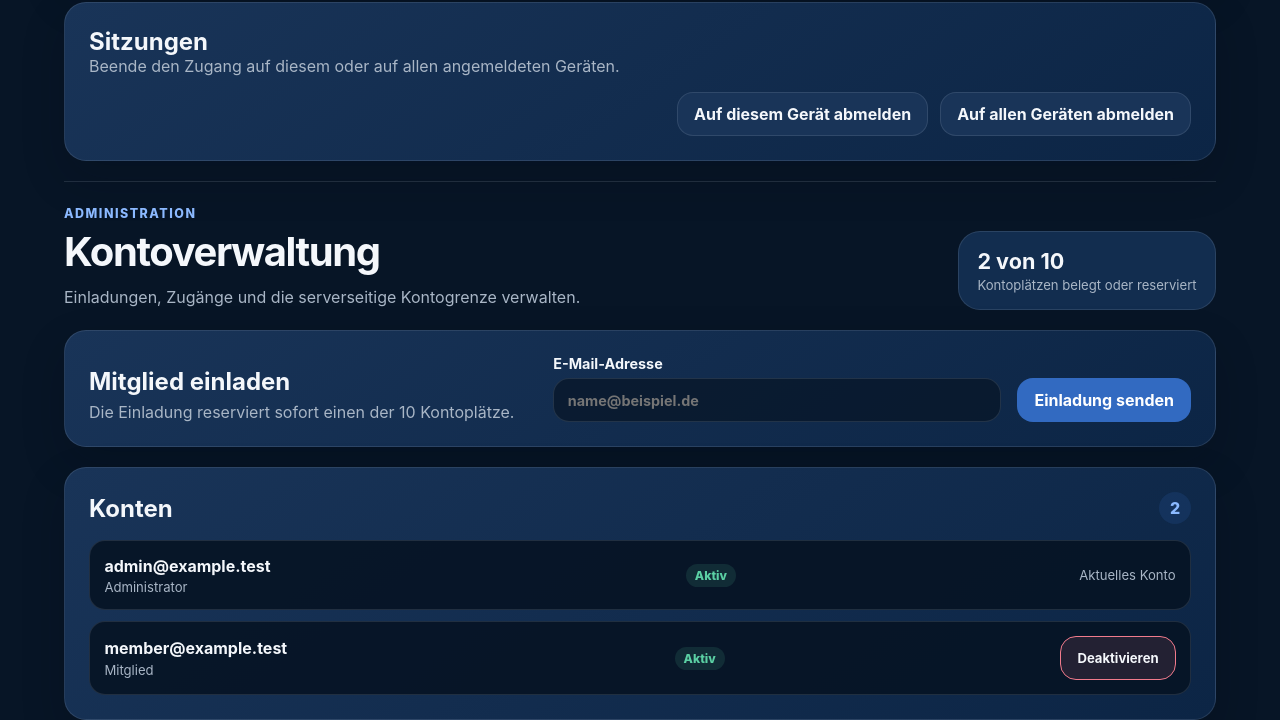
Test: SettingsPage › keeps a deactivation server error visible inside the critical dialog
The image size is (1280, 720).
(page scrolled)
Click the button with aria-label "Konto von member@example.test deaktivieren".
click(1118, 658)  # box left=1060, top=636, right=1176, bottom=680
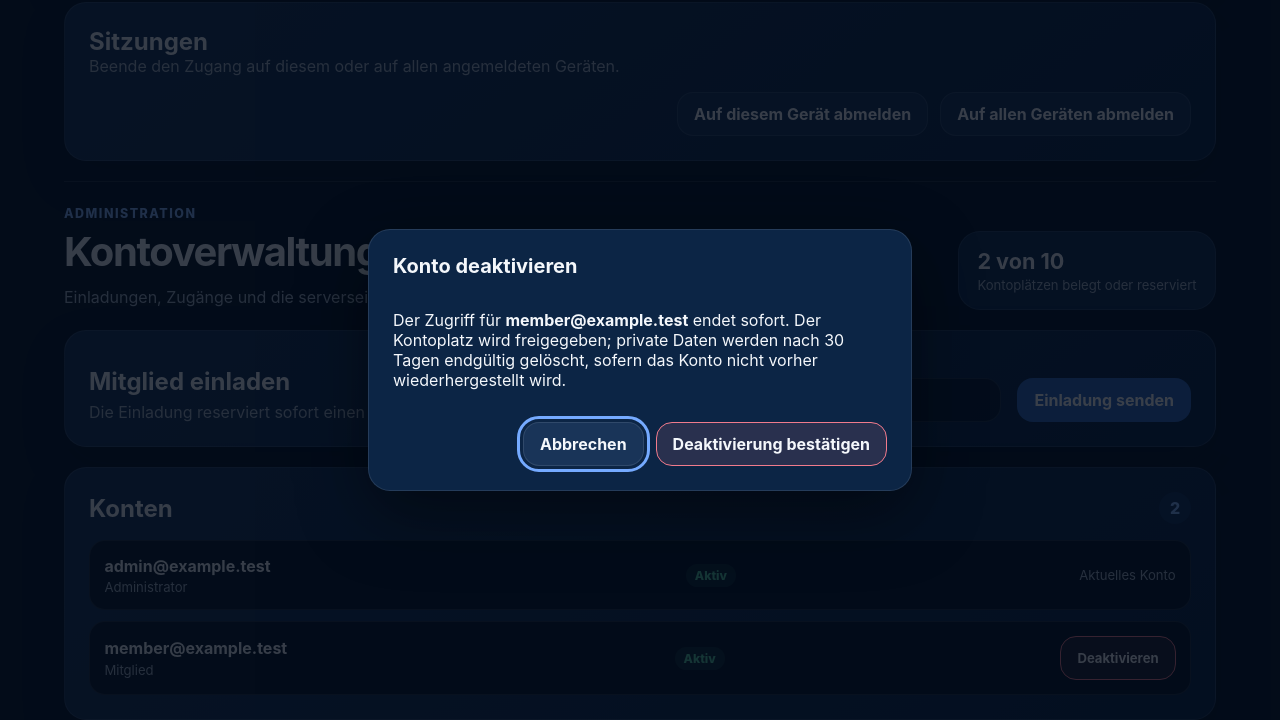
Click the button "Deaktivierung bestätigen".
click(771, 444)  # box left=656, top=422, right=887, bottom=466
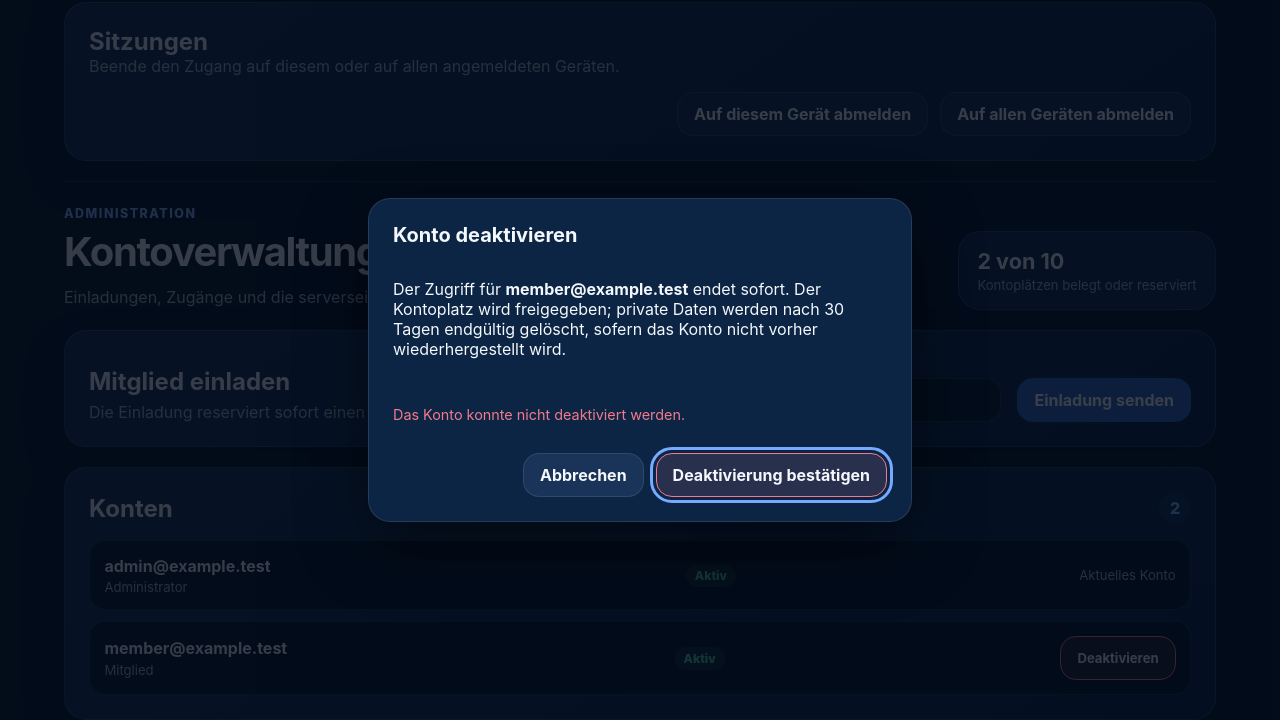
Check: the message reads "Das Konto konnte nicht deaktiviert werden.", box left=393, top=406, right=685, bottom=422
